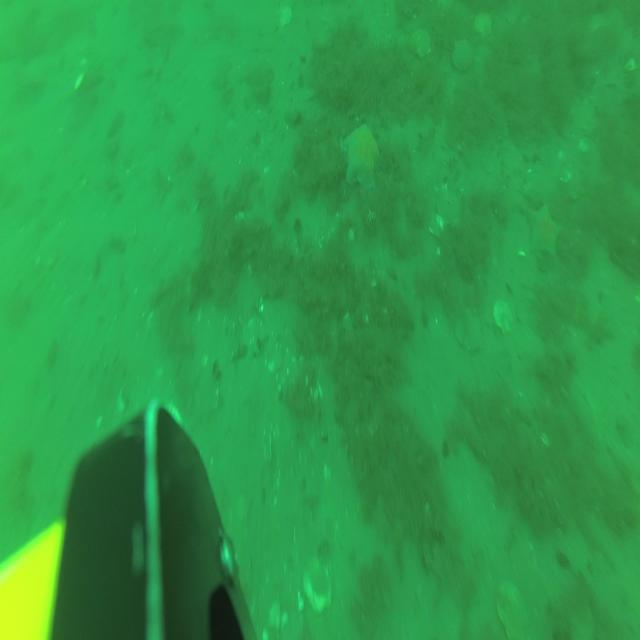scallop: (494, 578, 528, 640), (301, 554, 334, 614), (451, 302, 483, 354), (436, 189, 462, 227), (494, 295, 516, 337), (450, 38, 474, 74), (408, 26, 432, 60), (474, 9, 493, 39), (276, 2, 293, 32)
starfish: (342, 119, 381, 194), (521, 195, 562, 259)
